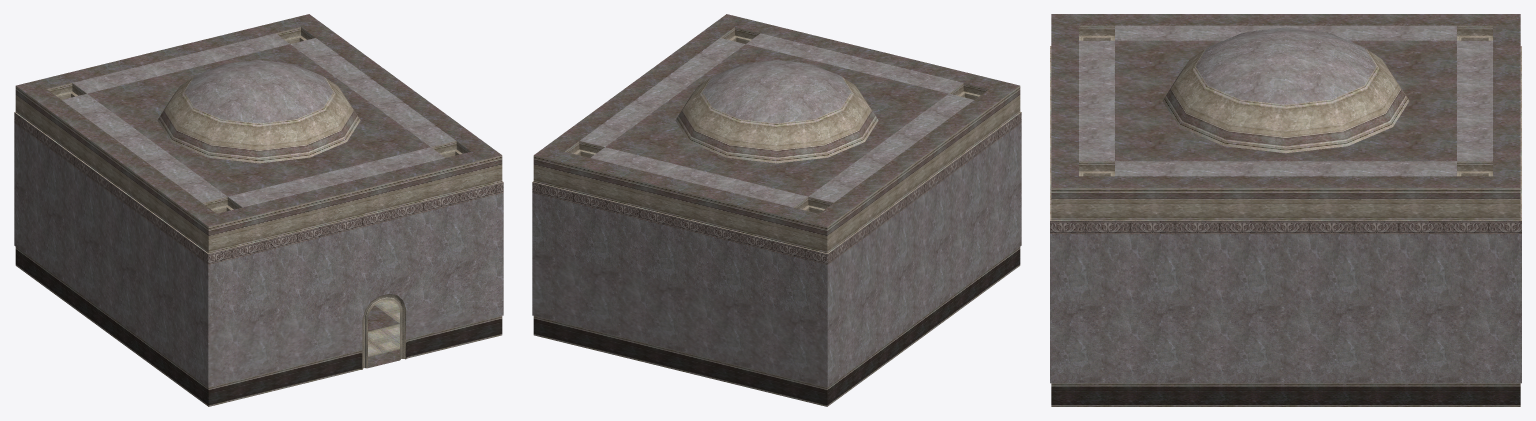
The model's file is mun_nboo_capitol_s01_r11_meeting6_mesh_meeting6.fbx.
3 renders of one model, left to right at view 1: azimuth 30°, elevation 25°; view 2: azimuth 150°, elevation 25°; view 3: azimuth 270°, elevation 25°, orthographic. The views are drawn at different scales.
Visible parts, largest first — view 1: mesh_node; view 2: mesh_node; view 3: mesh_node.
Boxes of the visible parts, box(x1,y1,x2,y2) form: mesh_node: box(14, 14, 503, 406); mesh_node: box(532, 14, 1021, 406); mesh_node: box(1050, 14, 1521, 406).
Bounding box in the file's own units: 15.07 × 11.06 × 17.14.
